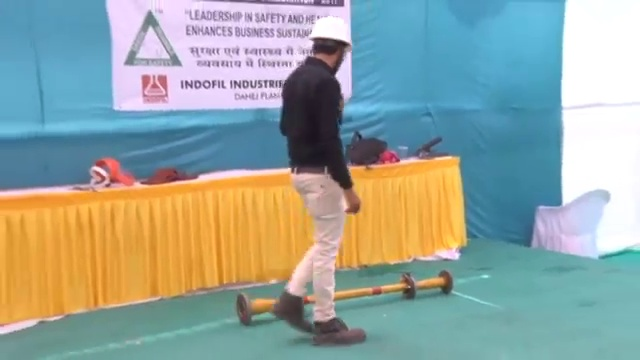helmet: (308, 15, 353, 51)
helmet_on: (307, 13, 354, 71)
person: (275, 14, 372, 346)
